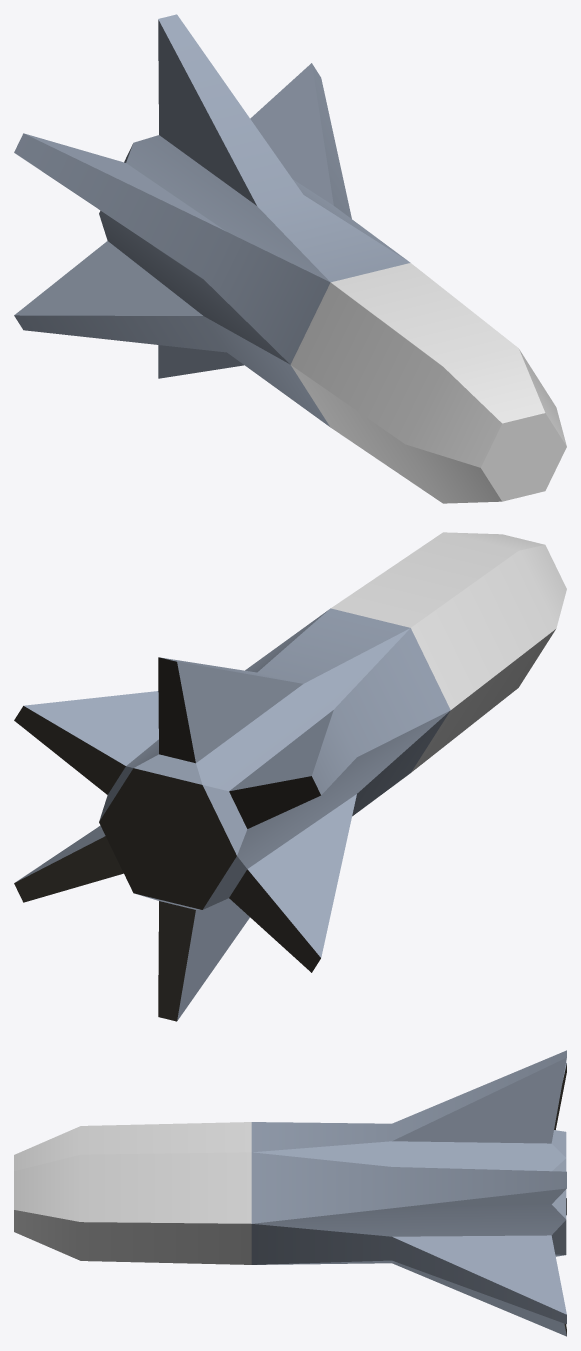
Rendered from 01_missile_swader.glb.
3 views of the same model, one above another, from view 1: azimuth 30°, elevation 25°; view 2: azimuth 150°, elevation 25°; view 3: azimuth 270°, elevation 25° (orthographic). The views are drawn at different scales.
Parts seen in each view (by area): view 1: 01_missile_swader; view 2: 01_missile_swader; view 3: 01_missile_swader.
Boxes of the visible parts, x1,y1,x2,y2 form: 01_missile_swader: (14,14,566,503); 01_missile_swader: (14,532,566,1021); 01_missile_swader: (14,1050,566,1336).
Size of the model in its own units: 0.4749 by 0.5316 by 0.9539.
